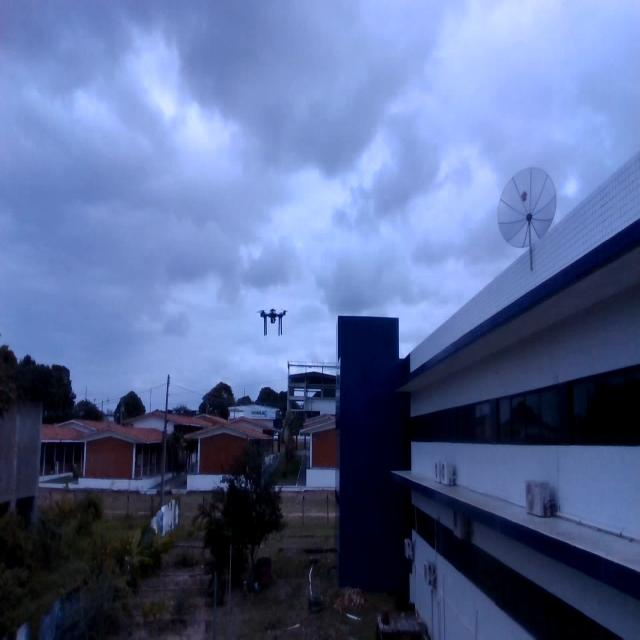-uav-: (252, 299, 291, 342)
